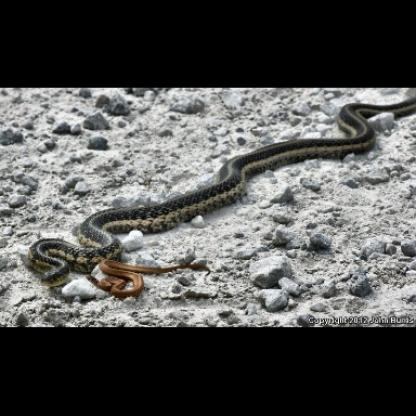Snake: (30, 97, 416, 299), (83, 256, 189, 297)
